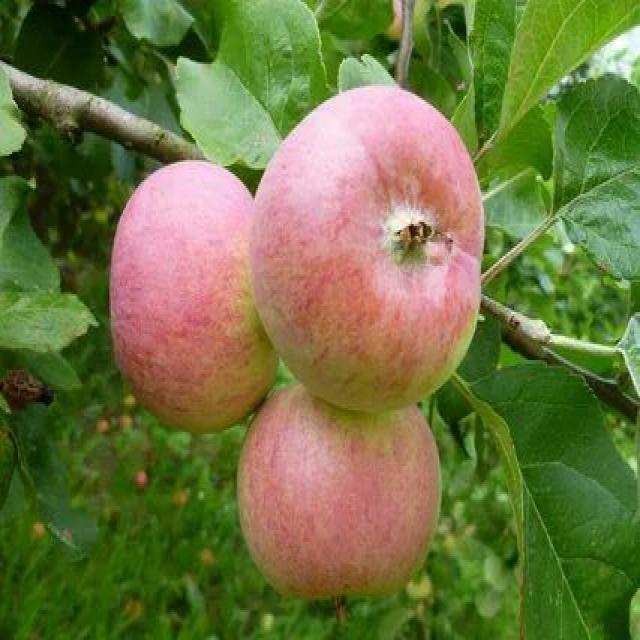Fresh Apple: (252, 90, 493, 412), (240, 378, 442, 598), (116, 157, 272, 430)
